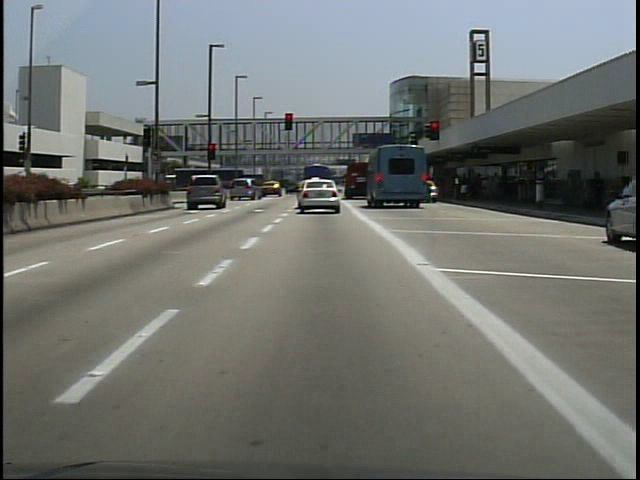person: (588, 168, 607, 222)
